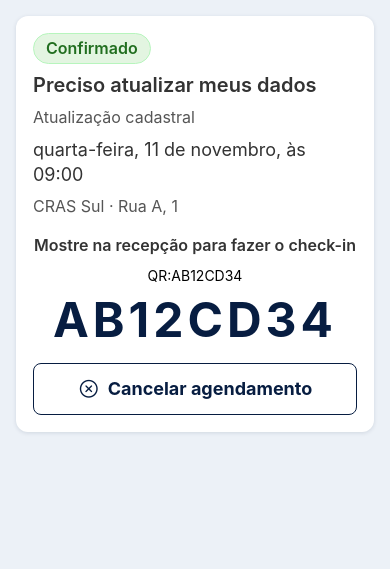
Test: Meus agendamentos (RF07) › cancelar pede confirmação e recarrega a lista
The width and height of the screenshot is (390, 569).
Step 1. Click the button with aria-label "Cancelar agendamento de Atualização cadastral" → (195, 389), box left=33, top=363, right=357, bottom=415
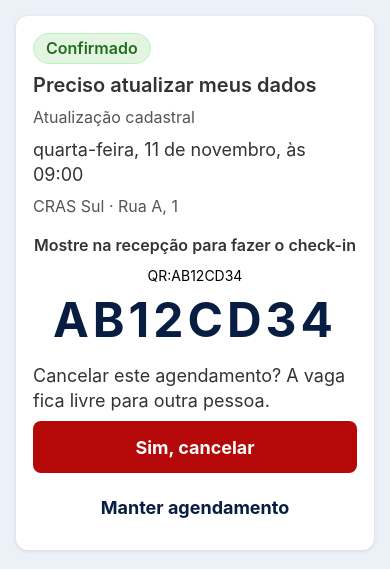
Step 2. Click the button "Sim, cancelar" → (195, 447), box left=33, top=421, right=357, bottom=473
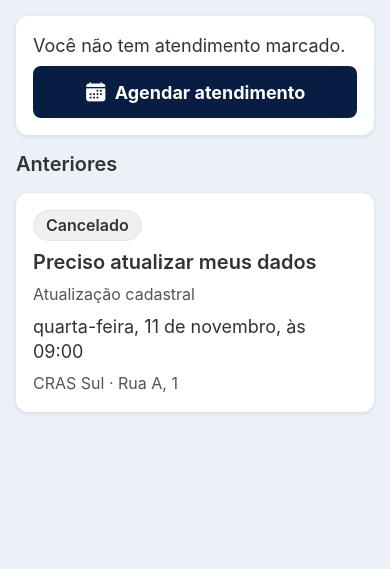
Result: the text "Cancelado" is shown at left=46, top=213, right=129, bottom=238
Result: the heading "Anteriores" is shown at left=16, top=152, right=117, bottom=176
